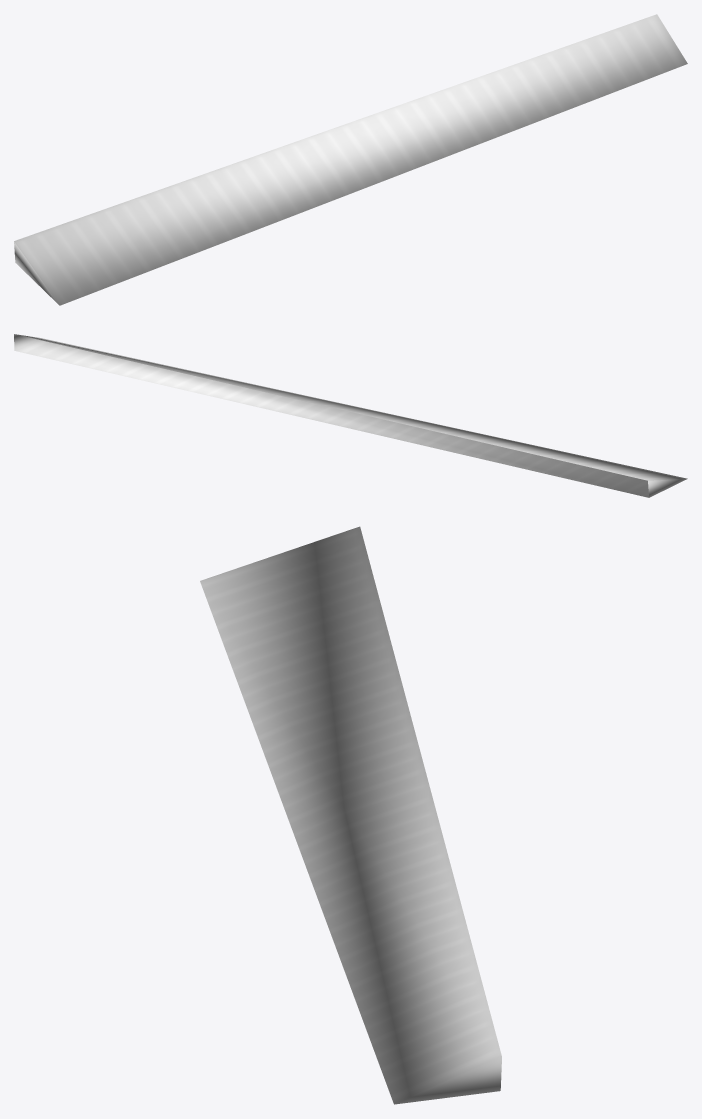
File: right_aileron.glb
3 renders of one model, top to bottom at view 1: azimuth 30°, elevation 25°; view 2: azimuth 150°, elevation 25°; view 3: azimuth 270°, elevation 25°, orthographic. The views are drawn at different scales.
Parts seen in each view (by area): view 1: right_aileron; view 2: right_aileron; view 3: right_aileron.
Boxes of the visible parts, <box> form: right_aileron: <box>14,14,687,305</box>; right_aileron: <box>14,334,687,497</box>; right_aileron: <box>200,526,501,1104</box>.
Size of the model in its own units: 2.85 by 0.2456 by 0.623.
1 material, 1 textured.
